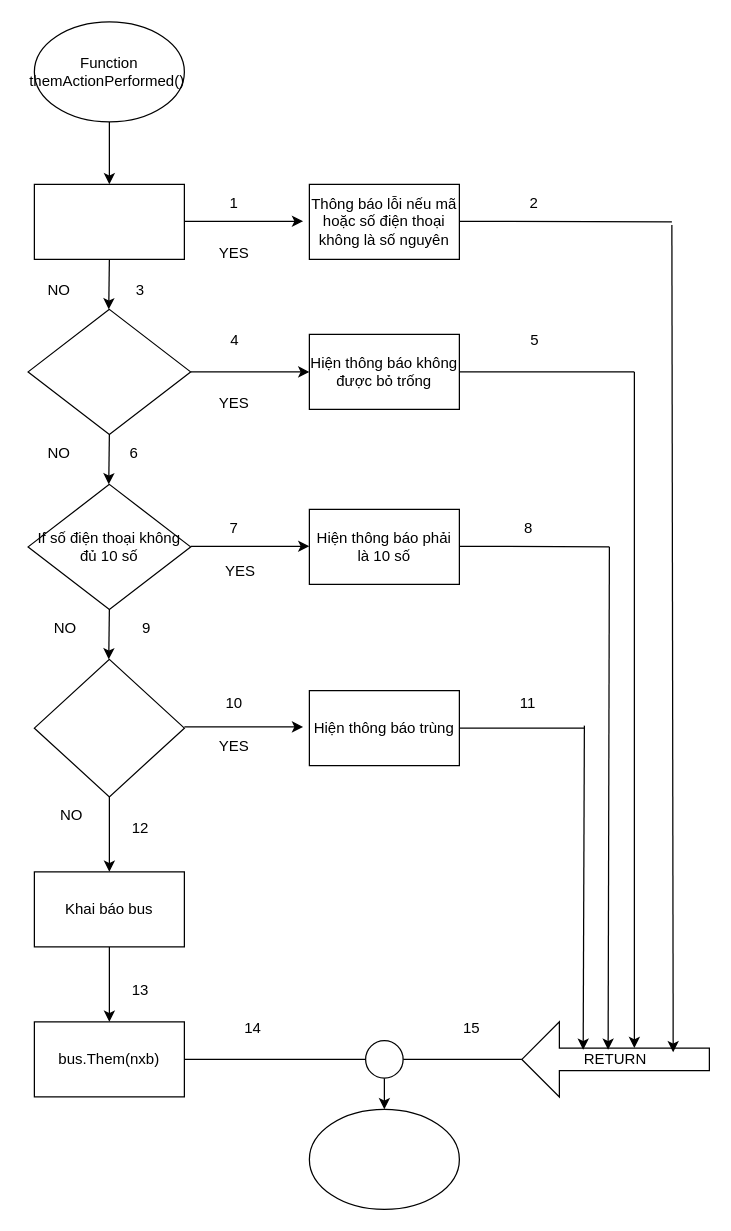
The diagram is 731 pixels wide and 1231 high, and some of its shapes have lost their labels. Each missing label, with the centre of its shape:
"END FUNCTION" belongs at point 383,1158.
"If bất kì trường nào rỗng" belongs at point 109,371.
"If Mã NXB hay SĐT trùng" belongs at point 108,727.
"Khai báo nxb, gán giá trị vào các trường" belongs at point 108,221.
